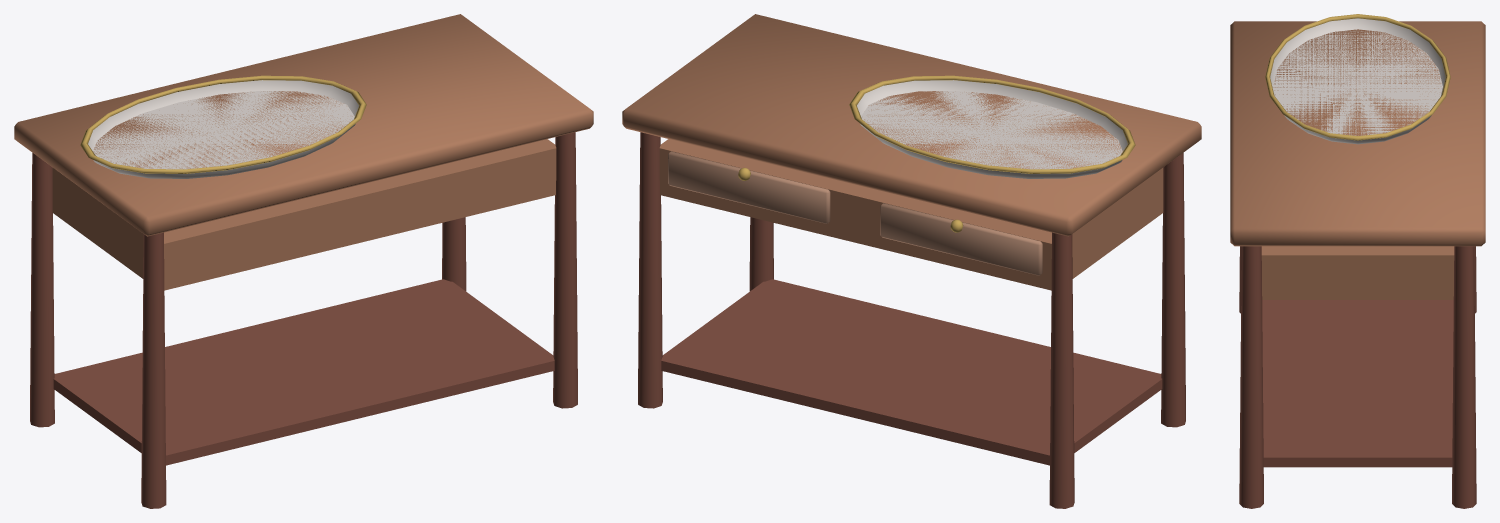
Rendered from infirmary_worktable.glb.
The picture shows the model from 3 angles, left to right: view 1: azimuth 30°, elevation 25°; view 2: azimuth 150°, elevation 25°; view 3: azimuth 270°, elevation 25°; orthographic projection. The views are drawn at different scales.
Visible parts, largest first — view 1: infirmary_worktable; view 2: infirmary_worktable; view 3: infirmary_worktable.
Part boxes in pixels (x1,y1,x2,y2): infirmary_worktable: (14, 14, 593, 508); infirmary_worktable: (622, 14, 1201, 508); infirmary_worktable: (1230, 14, 1485, 508).
Size of what is drawn, in the model's own units: 1.4 by 0.92 by 0.72.
